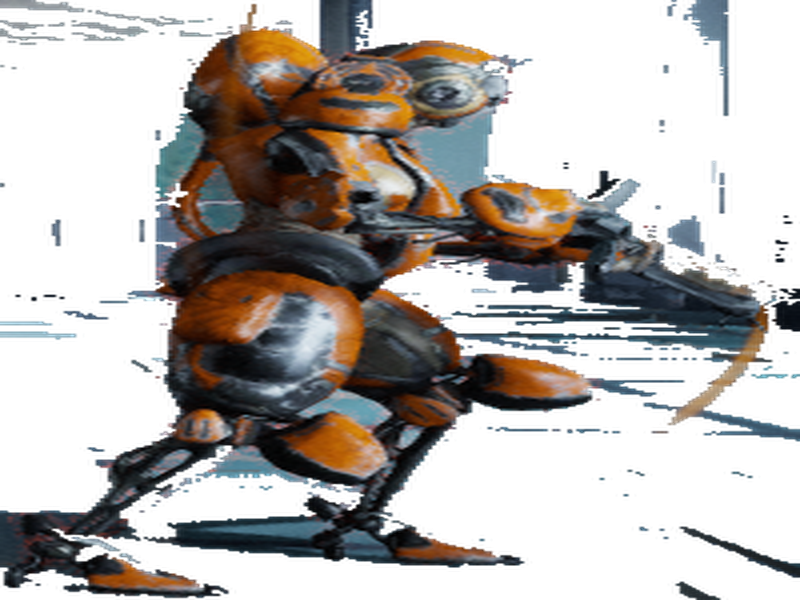grineer: (4, 2, 792, 600)
